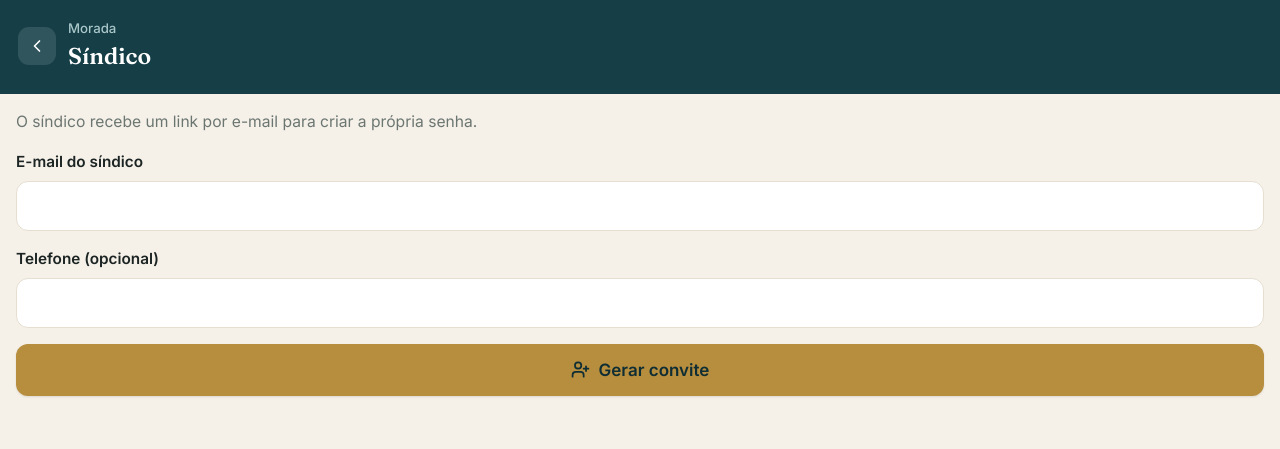
Test case: SindicoScreen › shows a friendly error when the invite fails
Type "carla@exemplo.com" into the field labelled "E-mail do síndico".
click(640, 206); type("carla@exemplo.com")  # box [16,181,1264,231]
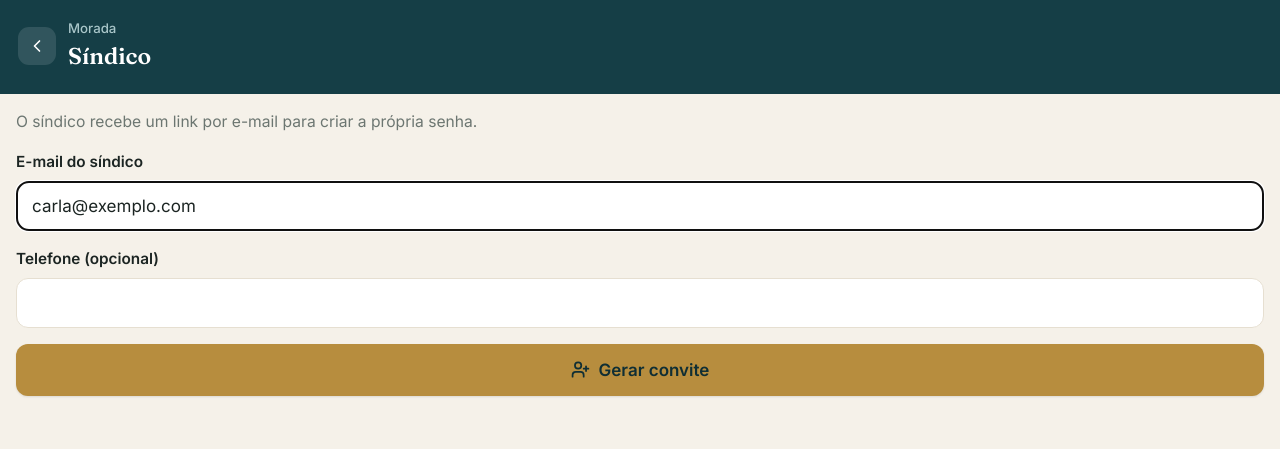
Click the button "Gerar convite".
click(640, 370)  # box [16,344,1264,396]
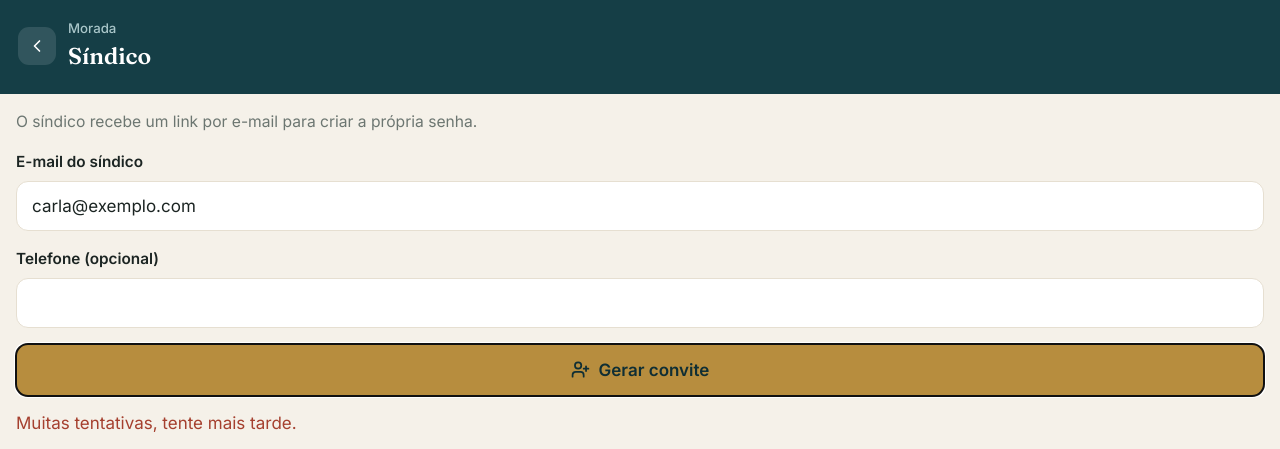
Expected: the message reads "Muitas tentativas, tente mais tarde.", [16,413,297,433]
